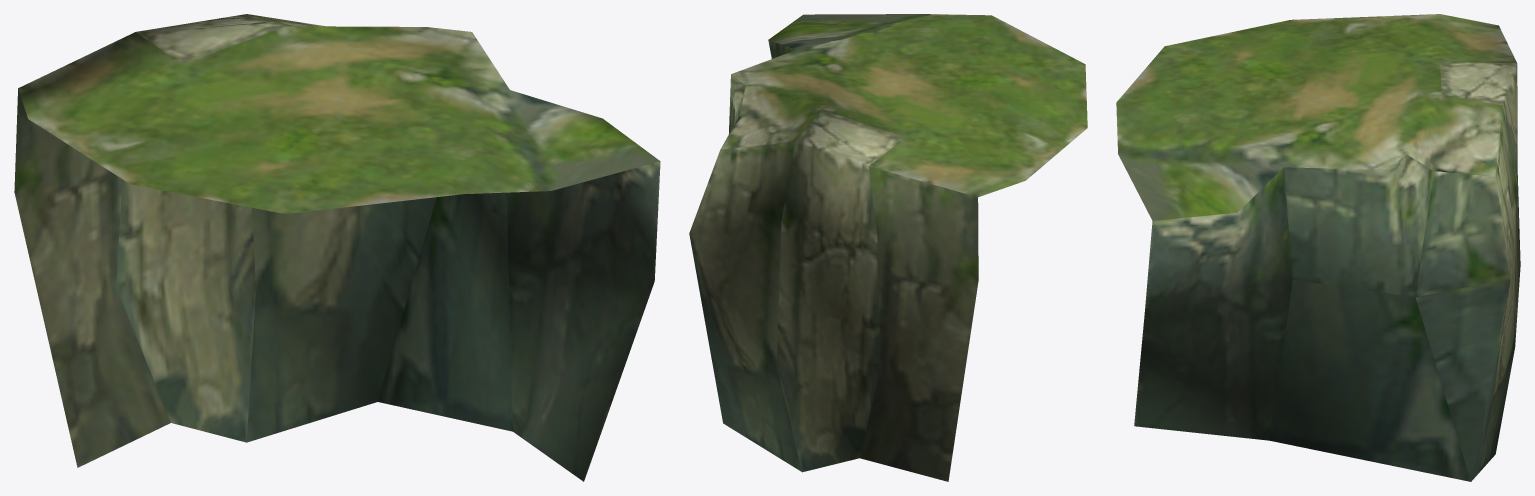
The model's file is S_Rock_Green054_1060_10.fbx.
The picture shows the model from 3 angles, left to right: view 1: azimuth 30°, elevation 25°; view 2: azimuth 150°, elevation 25°; view 3: azimuth 270°, elevation 25°; orthographic projection. The views are drawn at different scales.
Parts seen in each view (by area): view 1: S_Rock_Green054_1060_10; view 2: S_Rock_Green054_1060_10; view 3: S_Rock_Green054_1060_10.
Part boxes in pixels (x1,y1,x2,y2): S_Rock_Green054_1060_10: [14, 14, 660, 481]; S_Rock_Green054_1060_10: [689, 14, 1087, 481]; S_Rock_Green054_1060_10: [1116, 14, 1520, 481].
Size of the model in its own units: 1593 by 1456 by 1472.
Materials: 1 (1 with a texture image).
